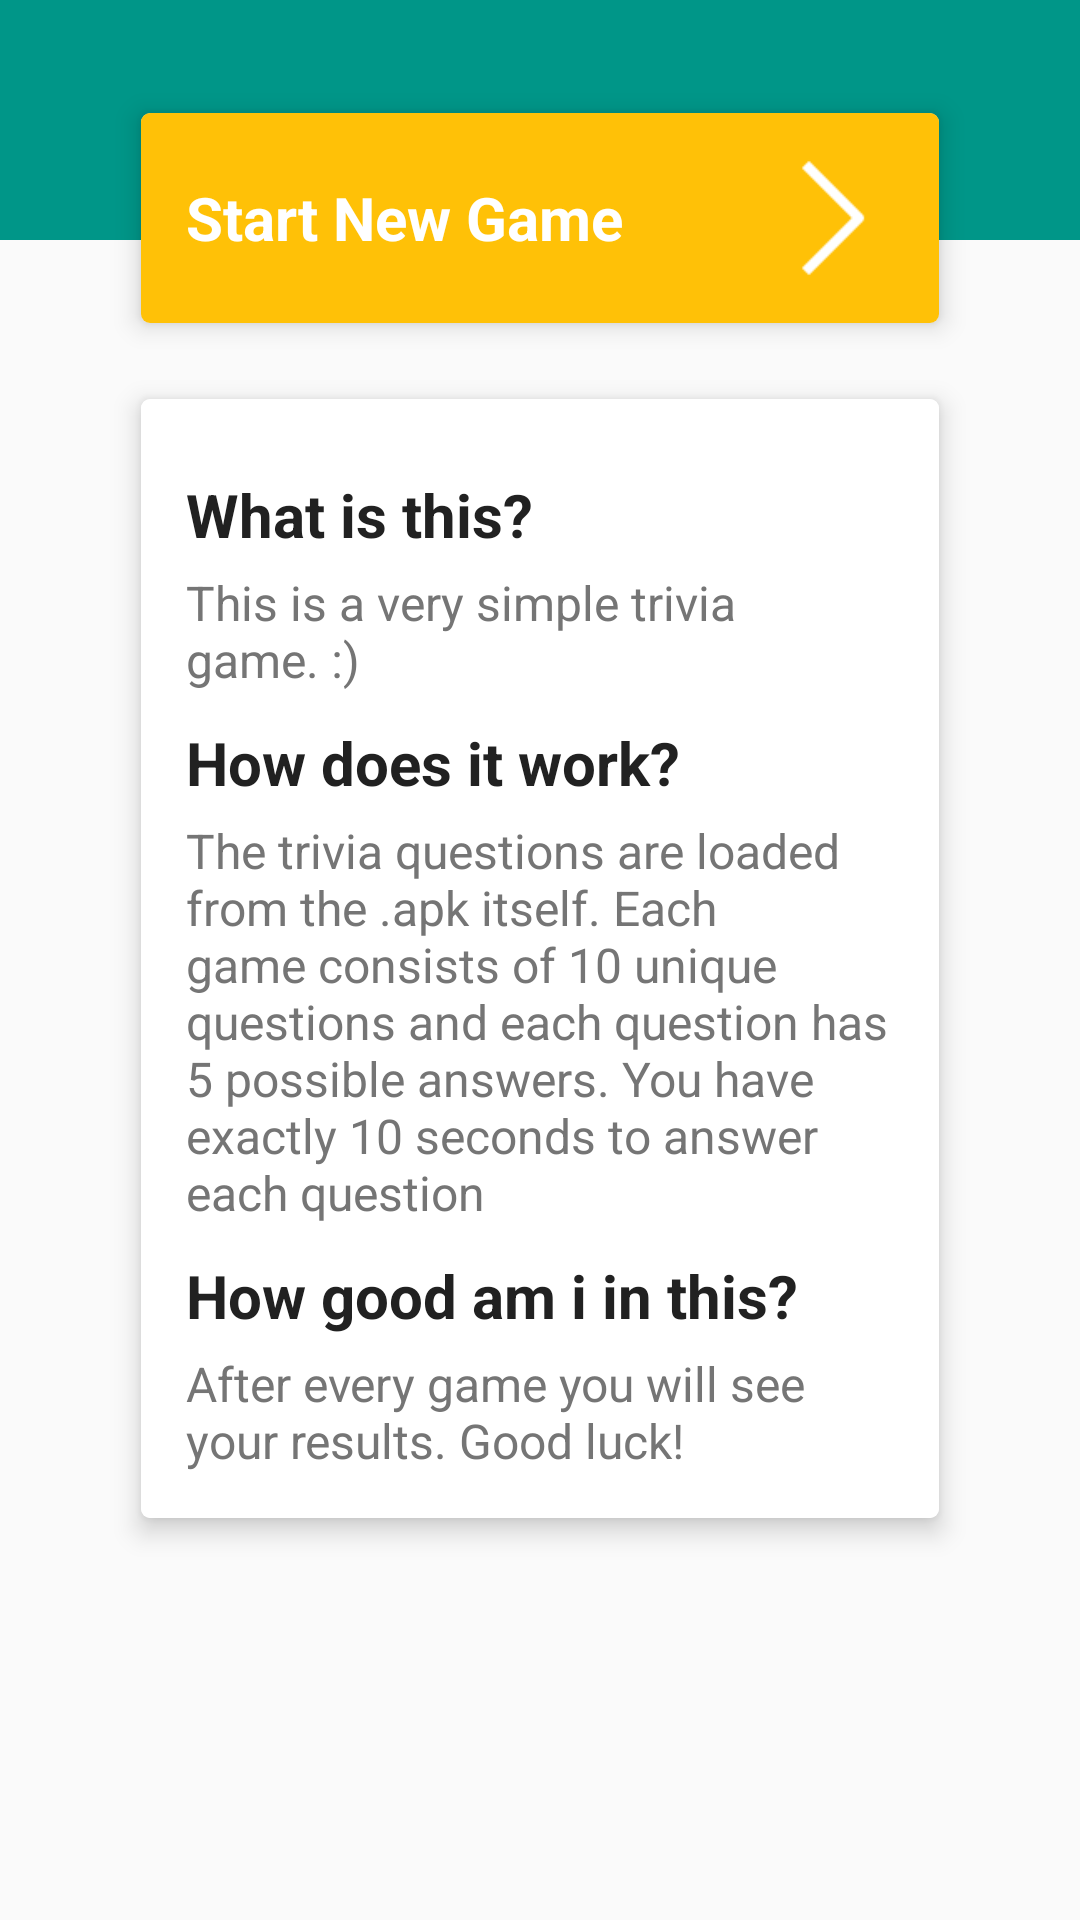

Screen size 1080 × 1920. Icon name, then its center in pixels as (x,y):
arrow right: (833,218)
